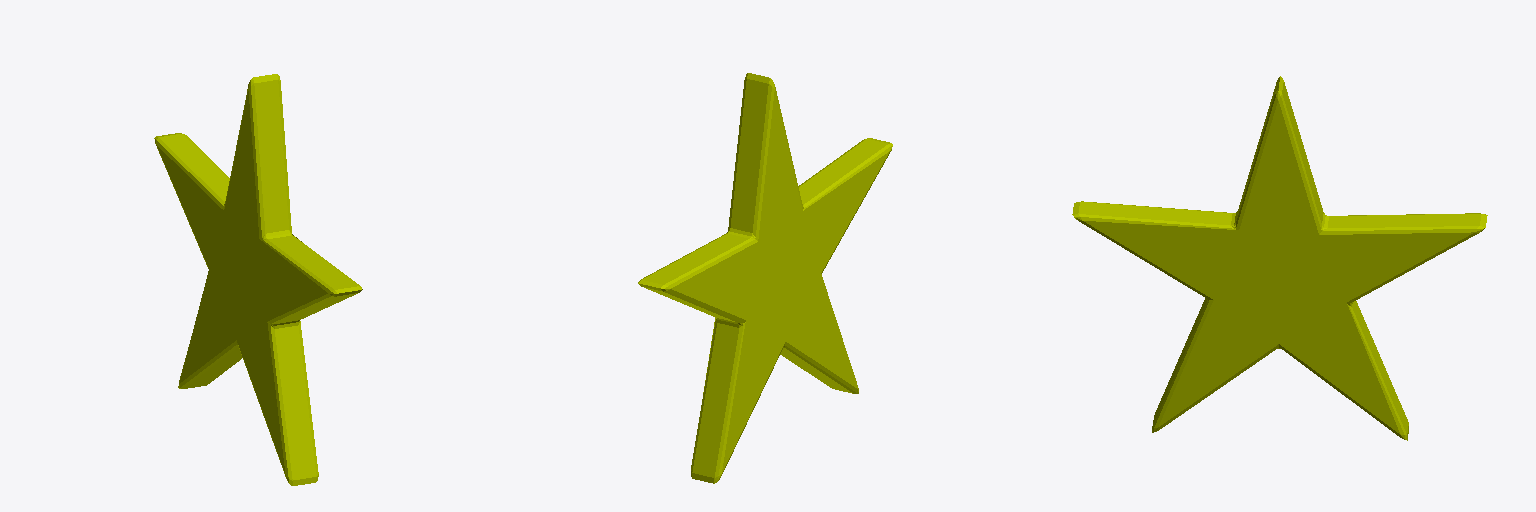
The model's file is star.obj.
The picture shows the model from 3 angles: view 1: azimuth 30°, elevation 25°; view 2: azimuth 150°, elevation 25°; view 3: azimuth 270°, elevation 25°; orthographic projection.
Parts seen in each view (by area): view 1: Circle_Circle.001; view 2: Circle_Circle.001; view 3: Circle_Circle.001.
Part boxes in pixels (x1,y1,x2,y2): Circle_Circle.001: (154, 74, 362, 485); Circle_Circle.001: (638, 73, 892, 483); Circle_Circle.001: (1072, 76, 1487, 440).
Bounding box in the file's own units: 30.68 × 175 × 184.